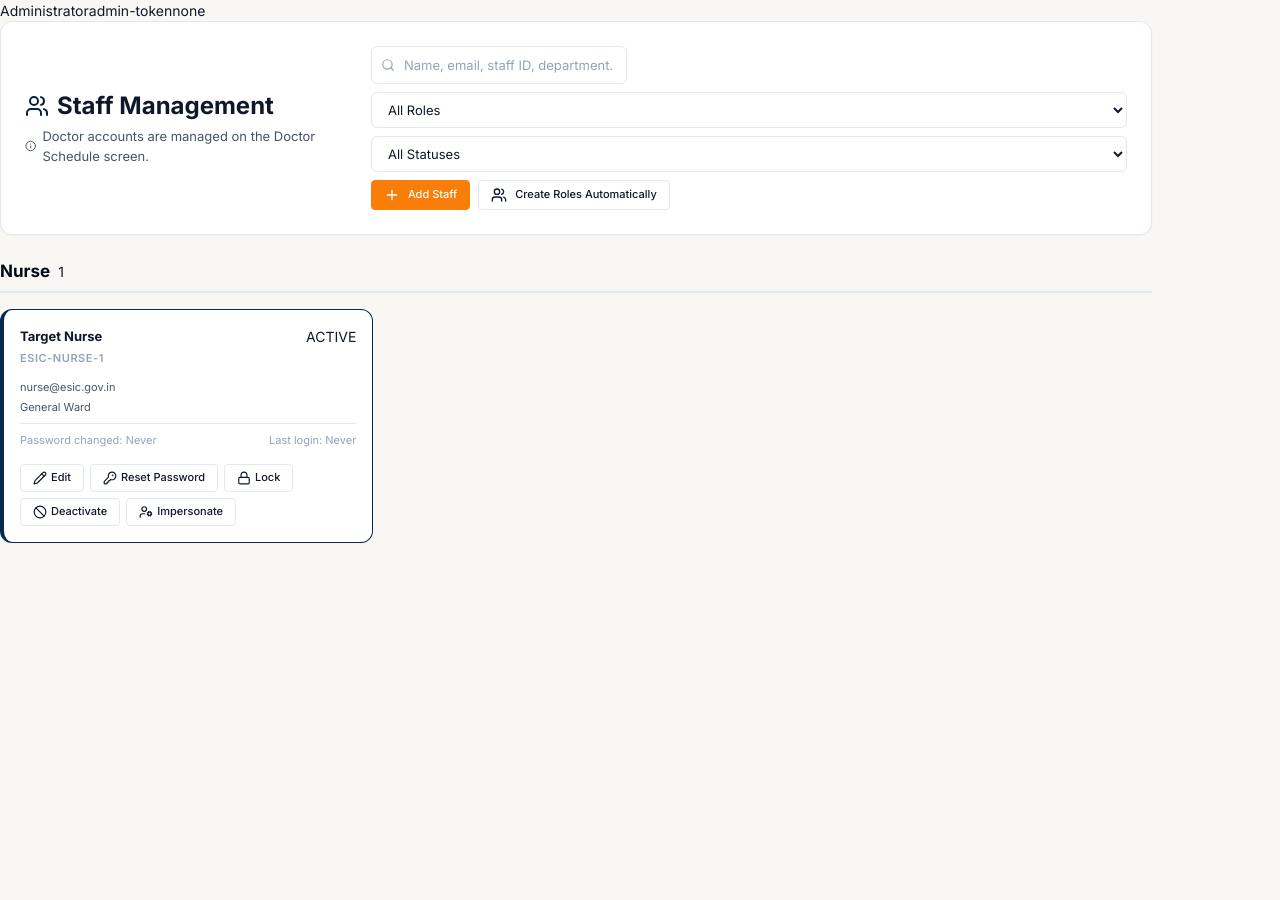
Test: StaffManagementPage impersonation flow (button -> modal -> session swap) › surfaces a server-side rejection in the error banner
Expected: the heading "Target Nurse" is shown, [20,326,104,346]
Click the button "Impersonate": (181, 512) [126,498,236,526]
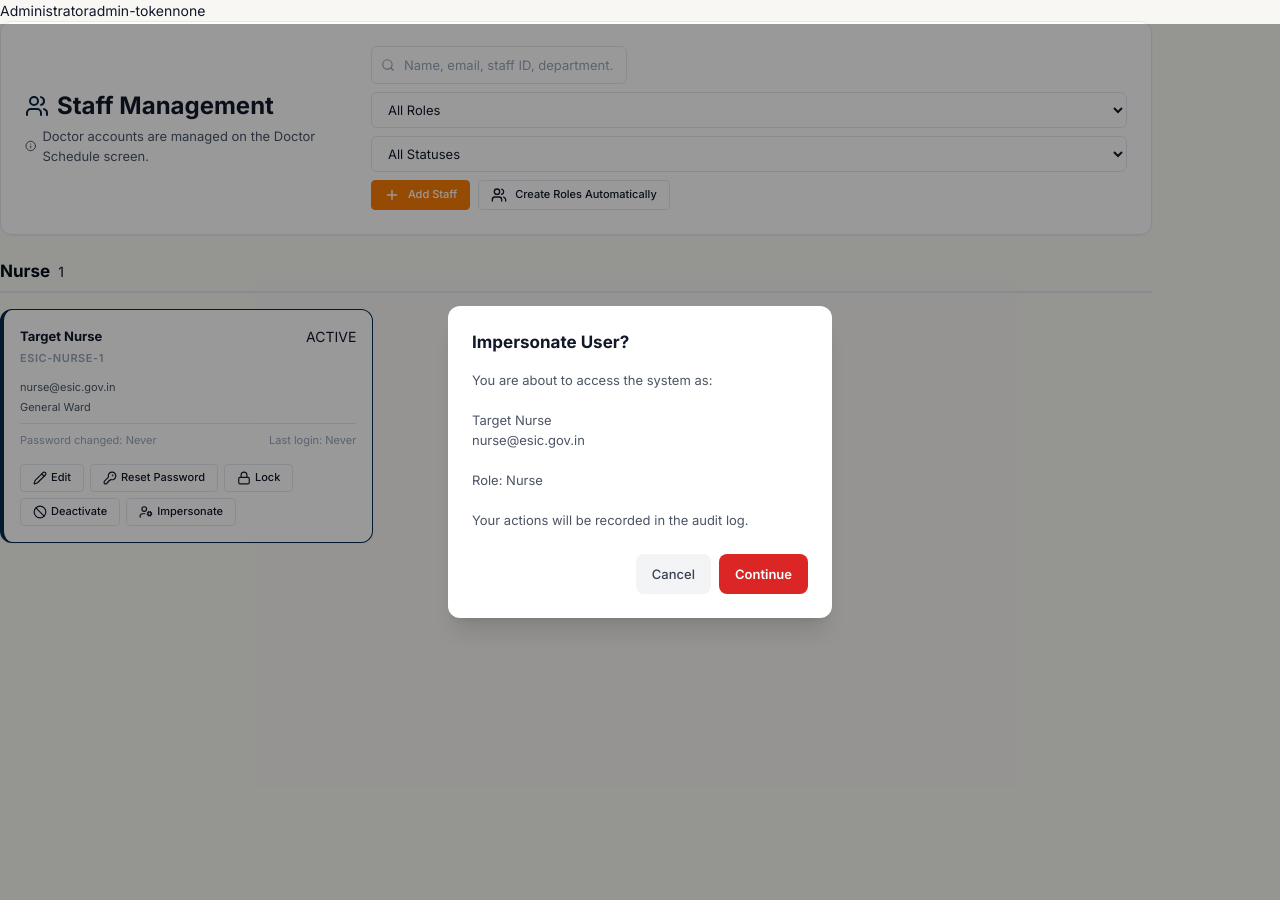
Expected: the heading "Impersonate User?" is shown, [472,332,629,352]
Click the button "Continue": (764, 574) [719,554,808,594]
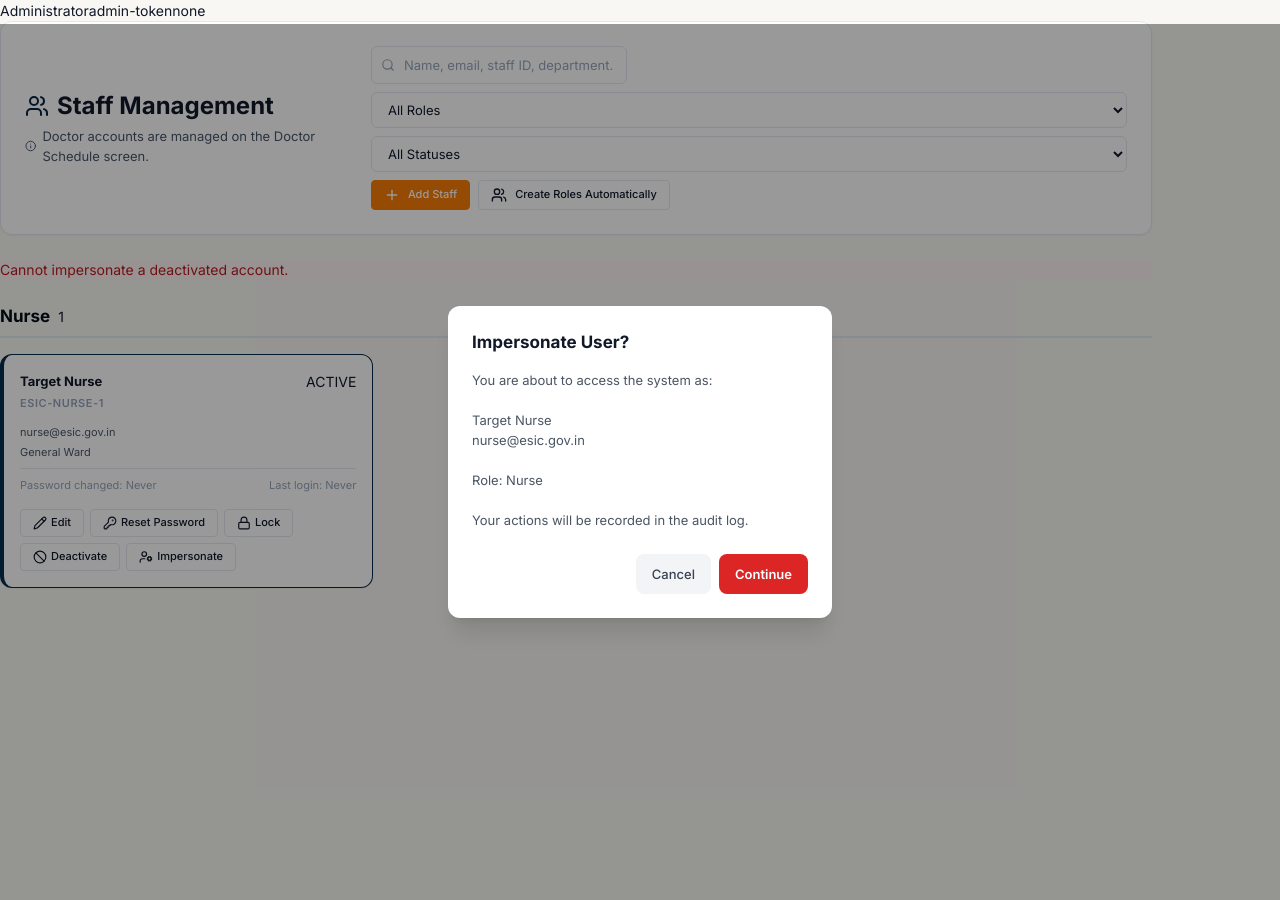
Expected: the text with test id "probe-role" reads "Administrator", [0,2,89,19]
Expected: the text "Cannot impersonate a deactivated account." is shown, [0,259,1152,280]
